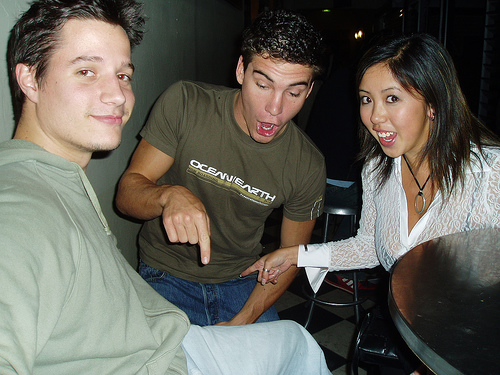without_mask: (17, 14, 136, 157), (356, 62, 436, 160), (238, 50, 313, 142)
